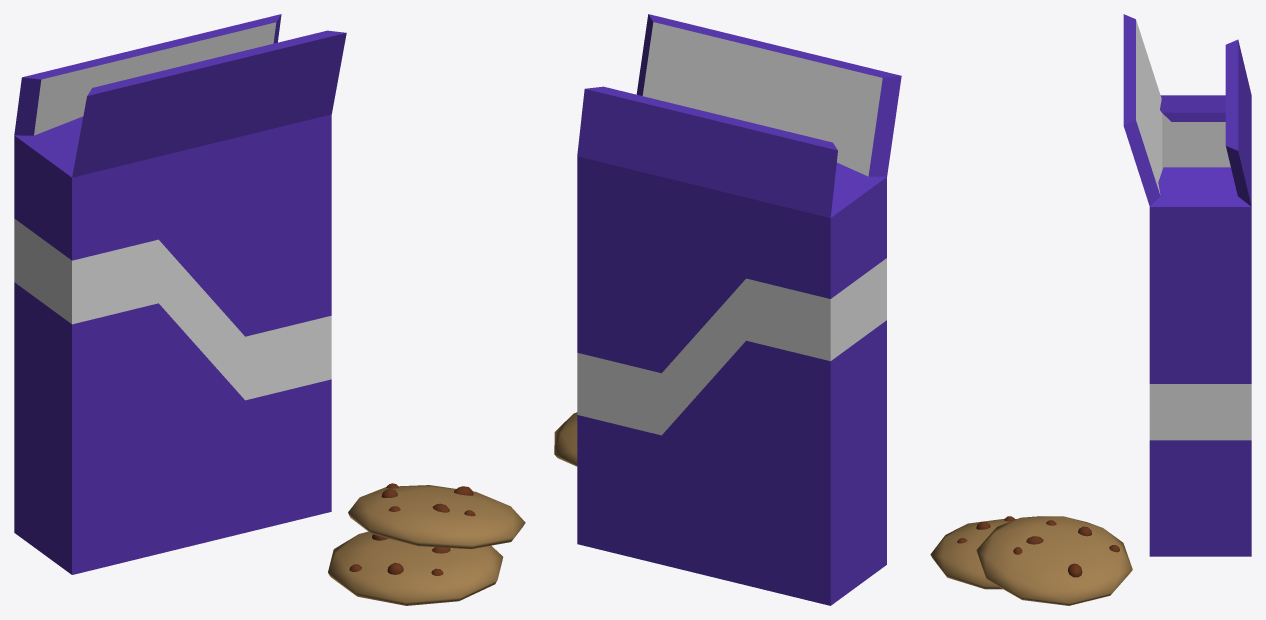
The model's file is cookies.fbx.
The picture shows the model from 3 angles, left to right: view 1: azimuth 30°, elevation 25°; view 2: azimuth 150°, elevation 25°; view 3: azimuth 270°, elevation 25°; orthographic projection. The views are drawn at different scales.
Visible parts, largest first — view 1: Cookies; view 2: Cookies; view 3: Cookies.
Boxes of the visible parts, x1=… form: Cookies: x1=14, y1=14, x2=525, y2=605; Cookies: x1=554, y1=14, x2=901, y2=605; Cookies: x1=930, y1=14, x2=1251, y2=605.
Size of the model in its own units: 52.73 by 43.21 by 64.
